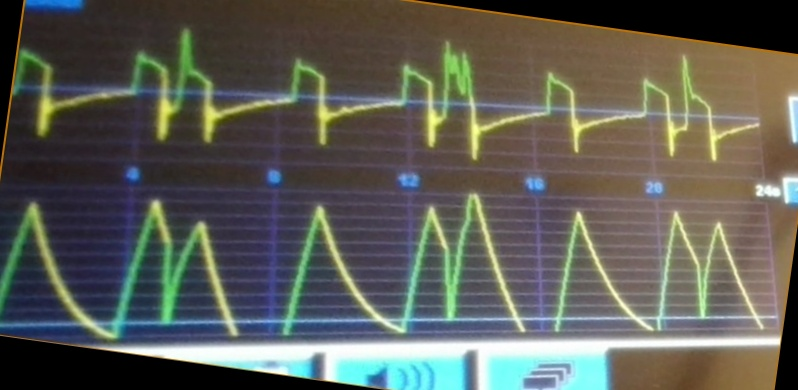Double_Triggering Flow: (24, 27, 730, 169)
Double_Triggering Volume: (14, 192, 749, 337)
